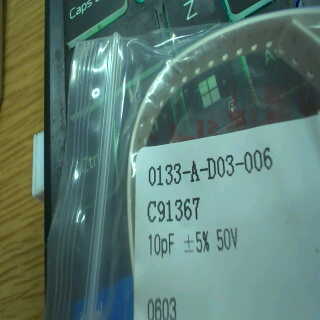10pF: (147, 228, 177, 258)
